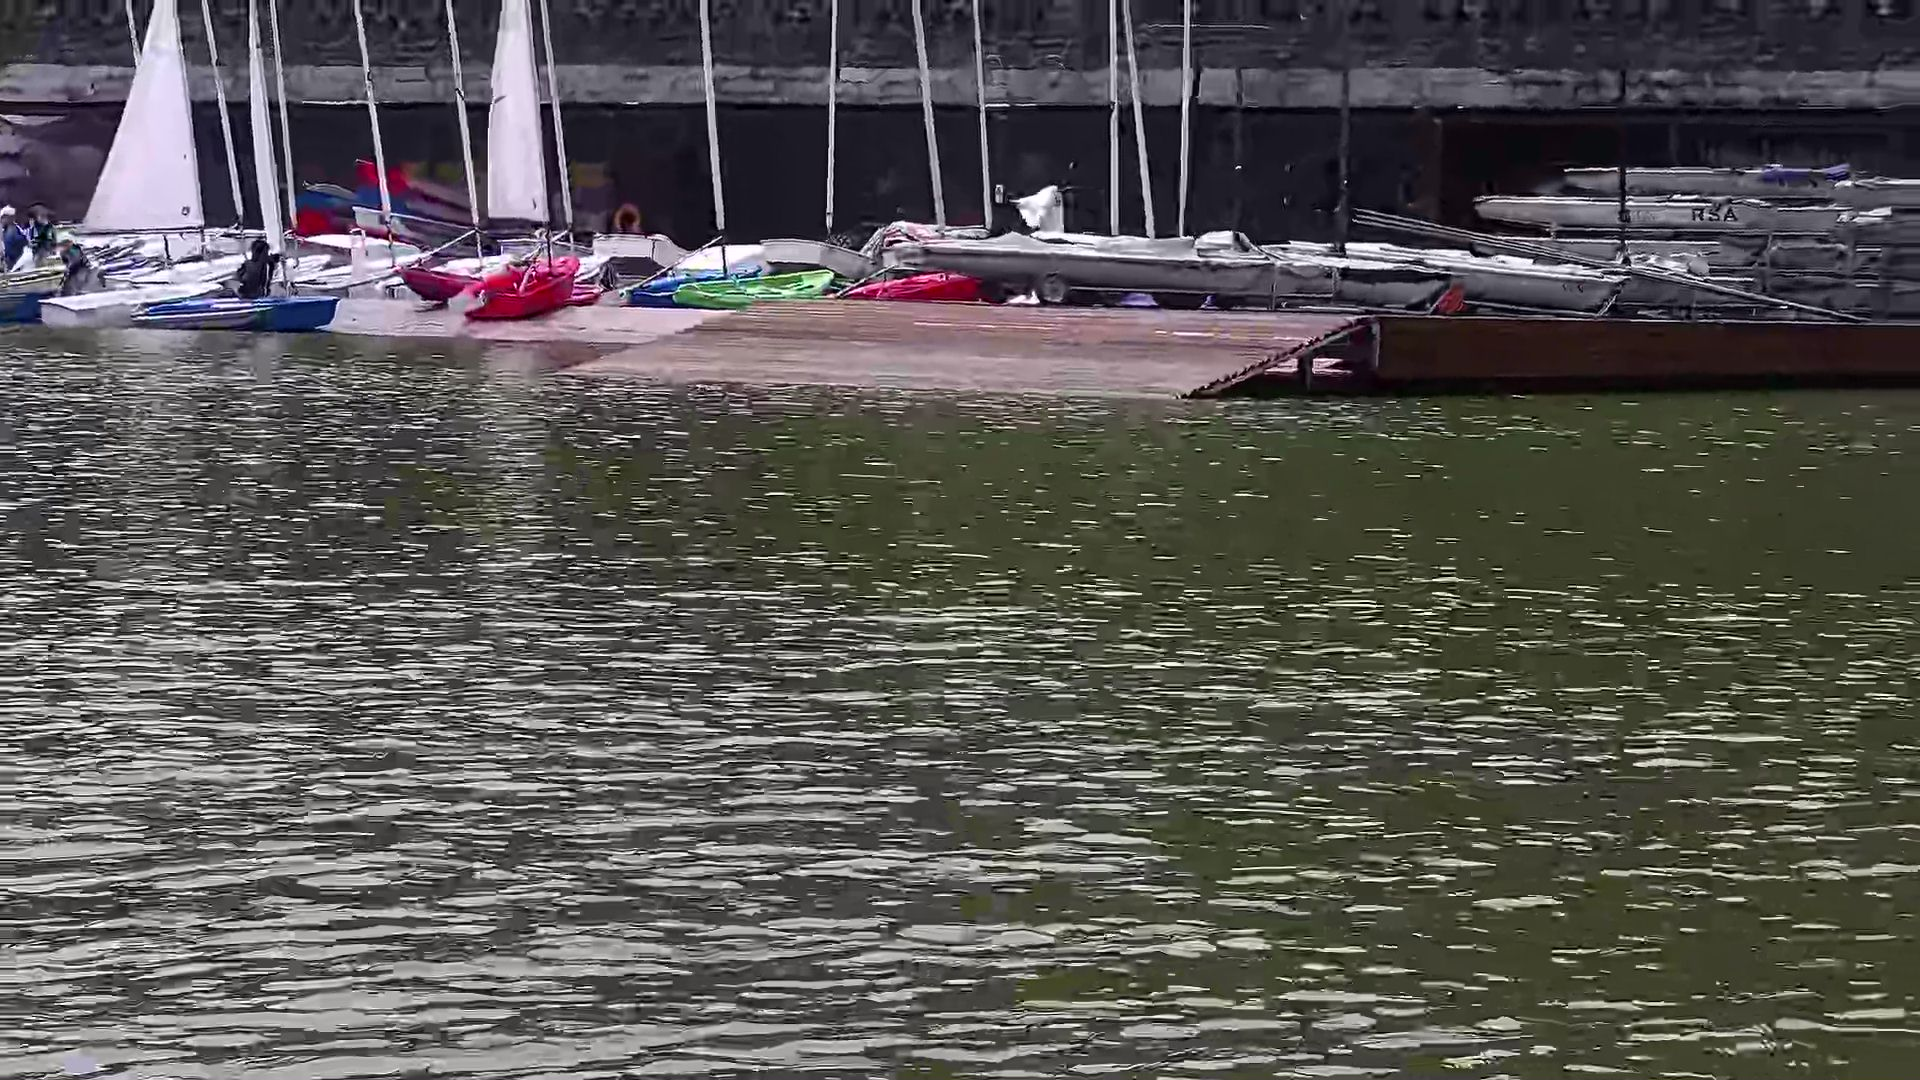harbor: (13, 173, 1902, 396)
